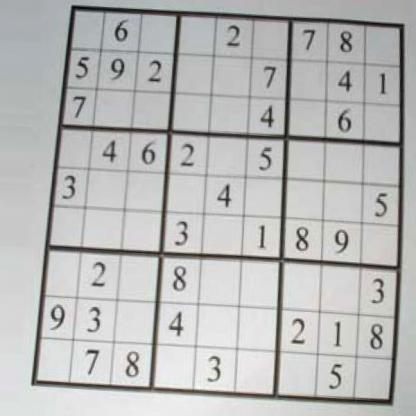sudoku: (29, 2, 407, 409)
